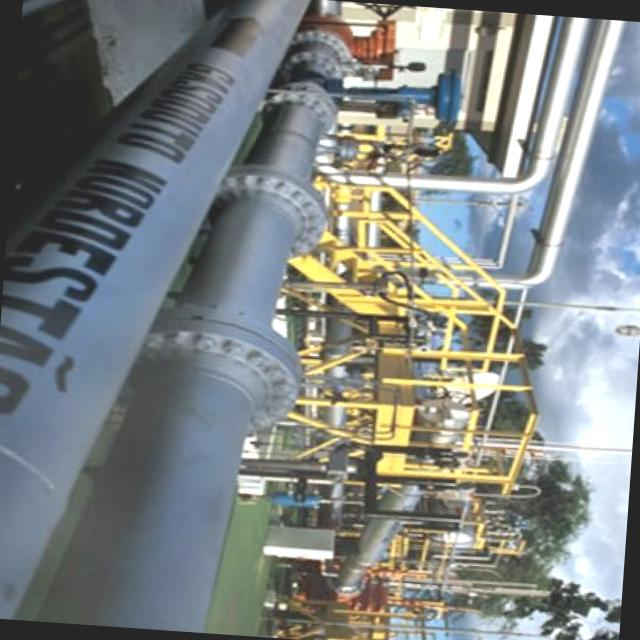gas: (0, 0, 313, 619), (41, 32, 343, 633), (411, 19, 617, 286), (322, 17, 589, 193)
